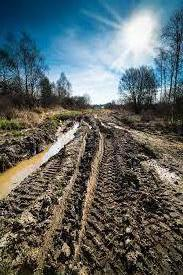vehicle_track: (0, 122, 183, 275)
